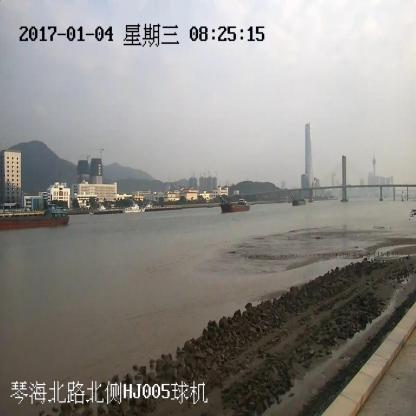Bulk Carrier: (0, 207, 69, 227), (219, 196, 249, 212)
